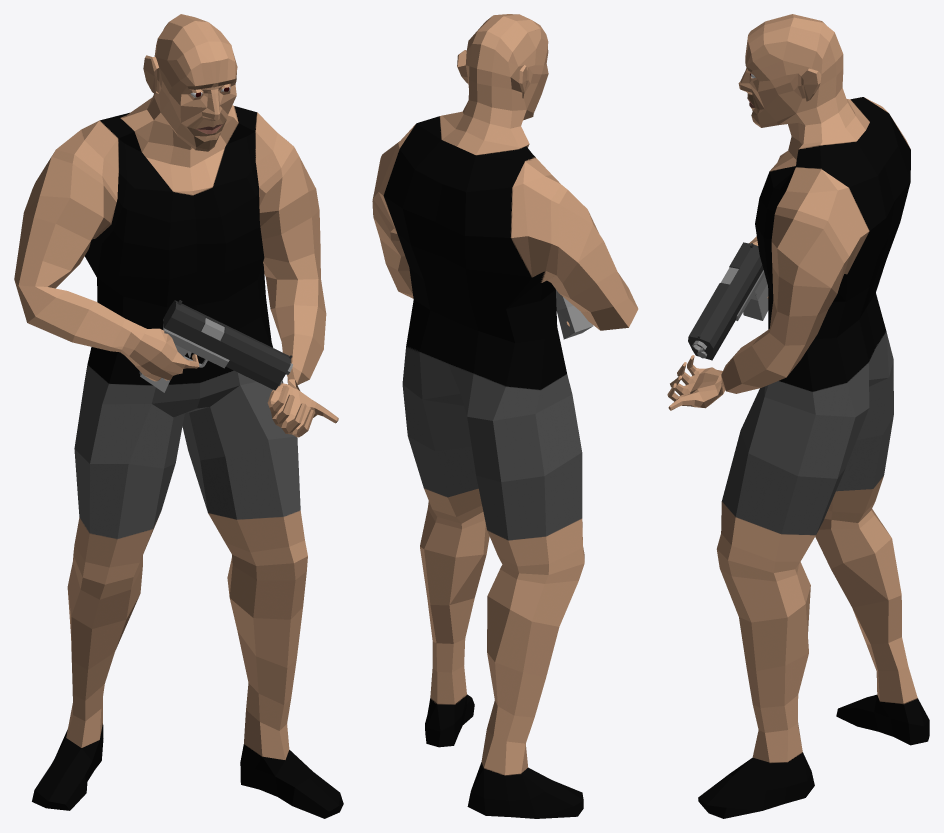
Rendered from PlayerIdle(74).obj.
The picture shows the model from 3 angles, left to right: view 1: azimuth 30°, elevation 25°; view 2: azimuth 150°, elevation 25°; view 3: azimuth 270°, elevation 25°; orthographic projection. The views are drawn at different scales.
Parts seen in each view (by area): view 1: Plane002, Box003; view 2: Plane002, Box003; view 3: Plane002, Box003.
Boxes of the visible parts, x1,y1,x2,y2 form: Plane002: [14, 14, 343, 818]; Box003: [139, 300, 292, 392]; Plane002: [372, 14, 638, 818]; Box003: [556, 290, 593, 339]; Plane002: [667, 14, 929, 818]; Box003: [688, 242, 768, 360].
Bounding box in the file's own units: 669 × 1799 × 571.
